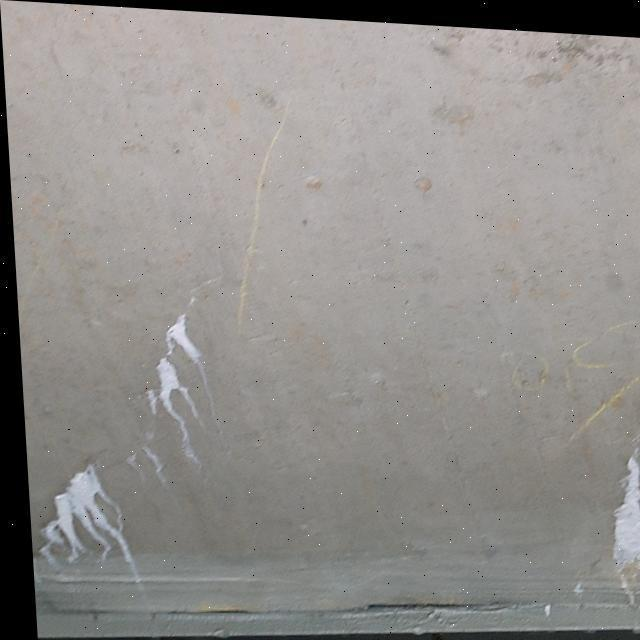D01: (34, 466, 117, 556), (614, 450, 639, 585)
